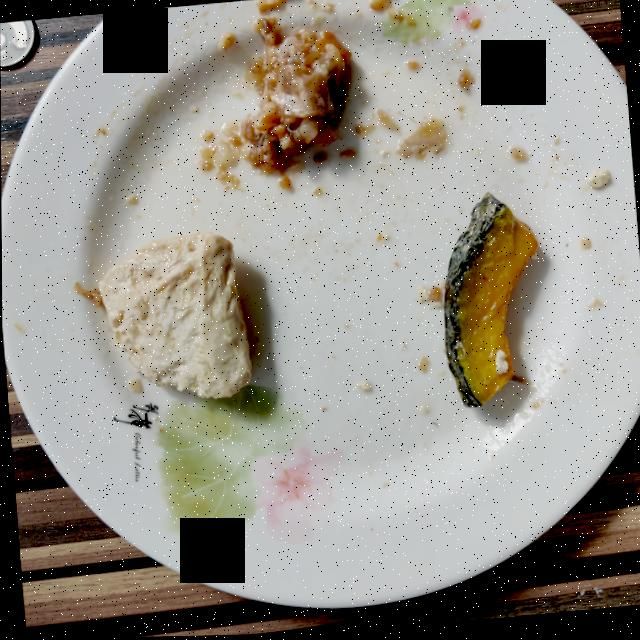Kabayaki sea bream fillet: (222, 17, 350, 176)
coin: (0, 19, 35, 65)
pumpkin: (443, 195, 537, 409)
